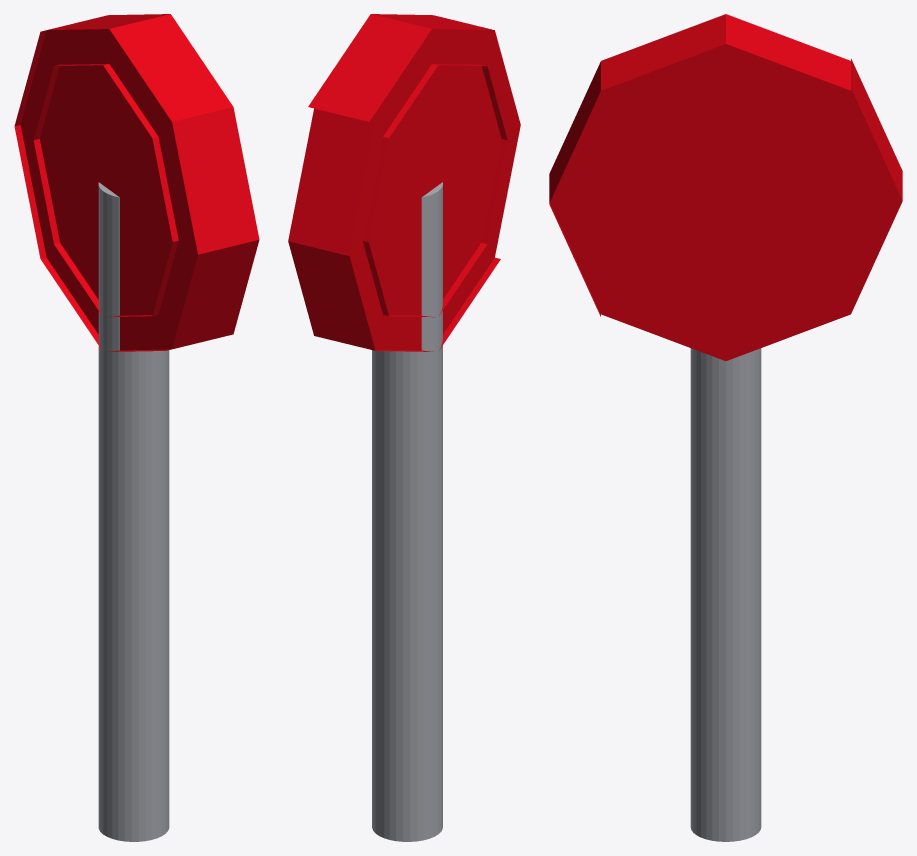
The model's file is StopSign.fbx.
3 renders of one model, left to right at view 1: azimuth 30°, elevation 25°; view 2: azimuth 150°, elevation 25°; view 3: azimuth 270°, elevation 25°, orthographic.
Parts seen in each view (by area): view 1: Cylinder; view 2: Cylinder; view 3: Cylinder.
Part boxes in pixels (left/top/right/bottom): Cylinder: left=14, top=14, right=259, bottom=841; Cylinder: left=288, top=14, right=520, bottom=841; Cylinder: left=549, top=14, right=902, bottom=841.
Size of the model in its own units: 11 by 125 by 50.
